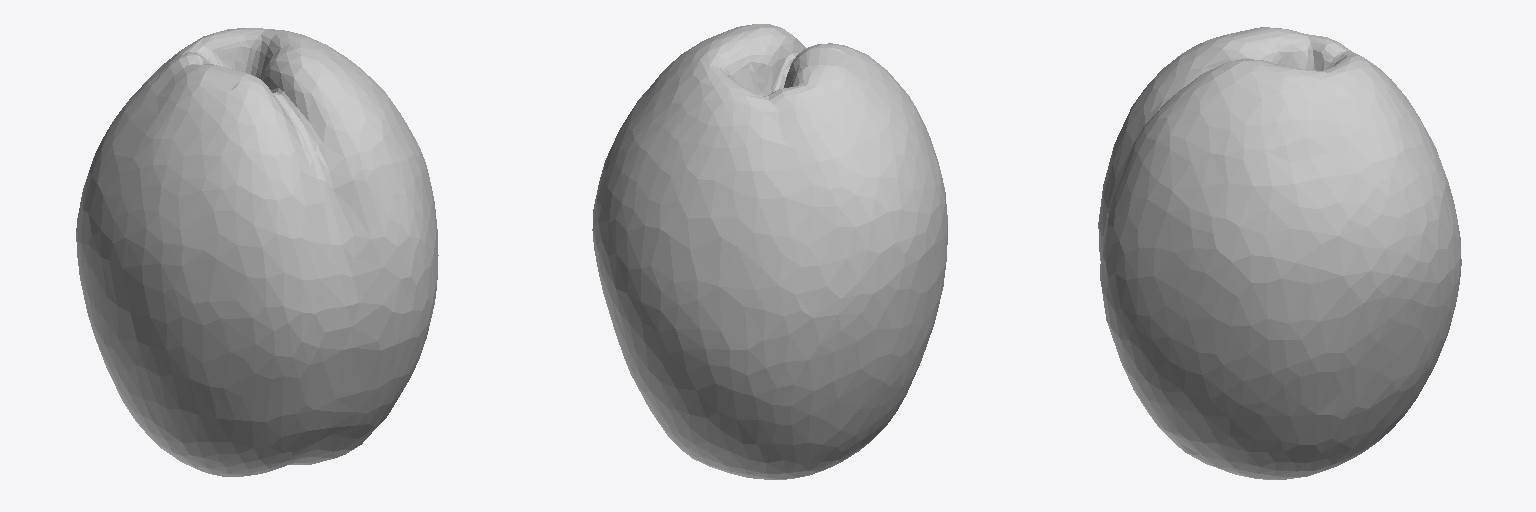
File: fruit.obj
3 views of the same model, side by side, from view 1: azimuth 30°, elevation 25°; view 2: azimuth 150°, elevation 25°; view 3: azimuth 270°, elevation 25° (orthographic).
Parts seen in each view (by area): view 1: Apricot_02_hi_poly; view 2: Apricot_02_hi_poly; view 3: Apricot_02_hi_poly.
Part boxes in pixels (x1,y1,x2,y2): Apricot_02_hi_poly: (76,28,438,476); Apricot_02_hi_poly: (592,24,947,479); Apricot_02_hi_poly: (1098,27,1461,479).
Bounding box in the file's own units: 3.82 × 4.97 × 3.93.